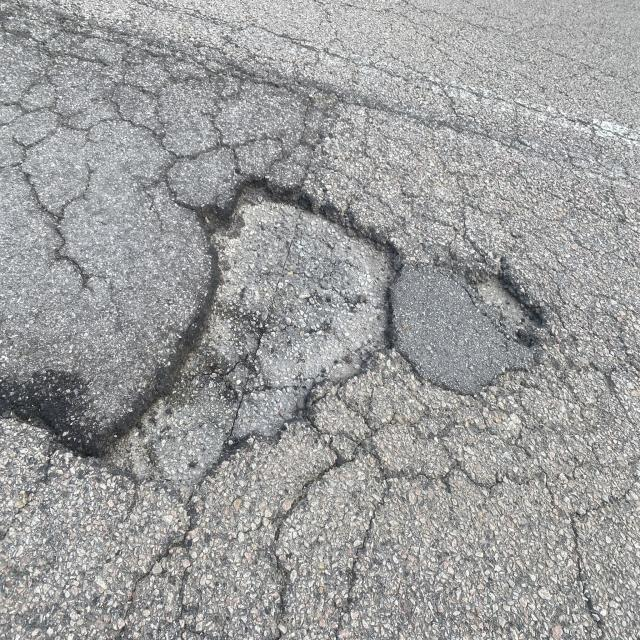Pothole: (100, 135, 587, 539)
